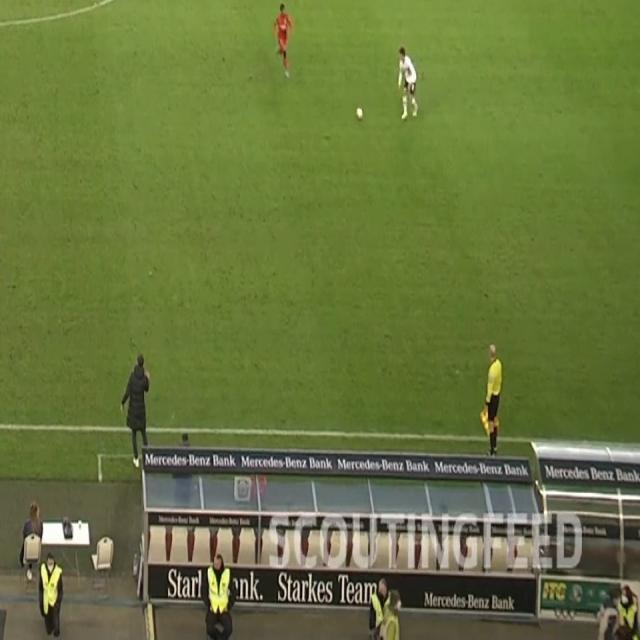ball: (354, 106, 364, 121)
